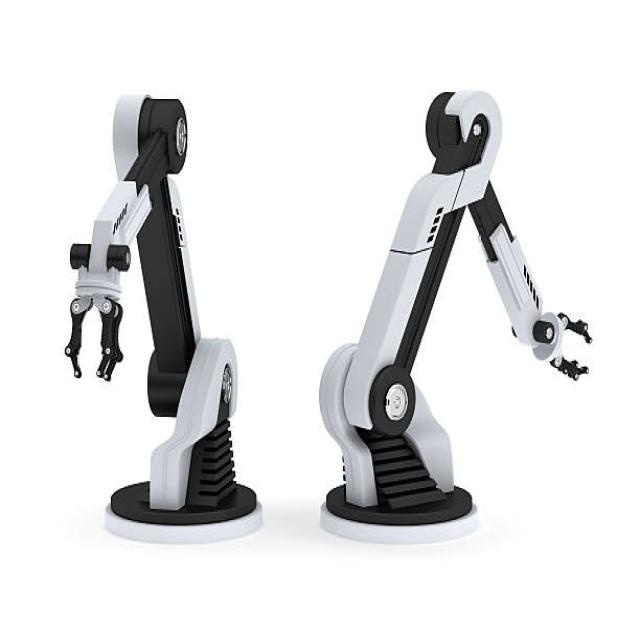Robotic-arm: (314, 81, 597, 544), (61, 76, 271, 558)
